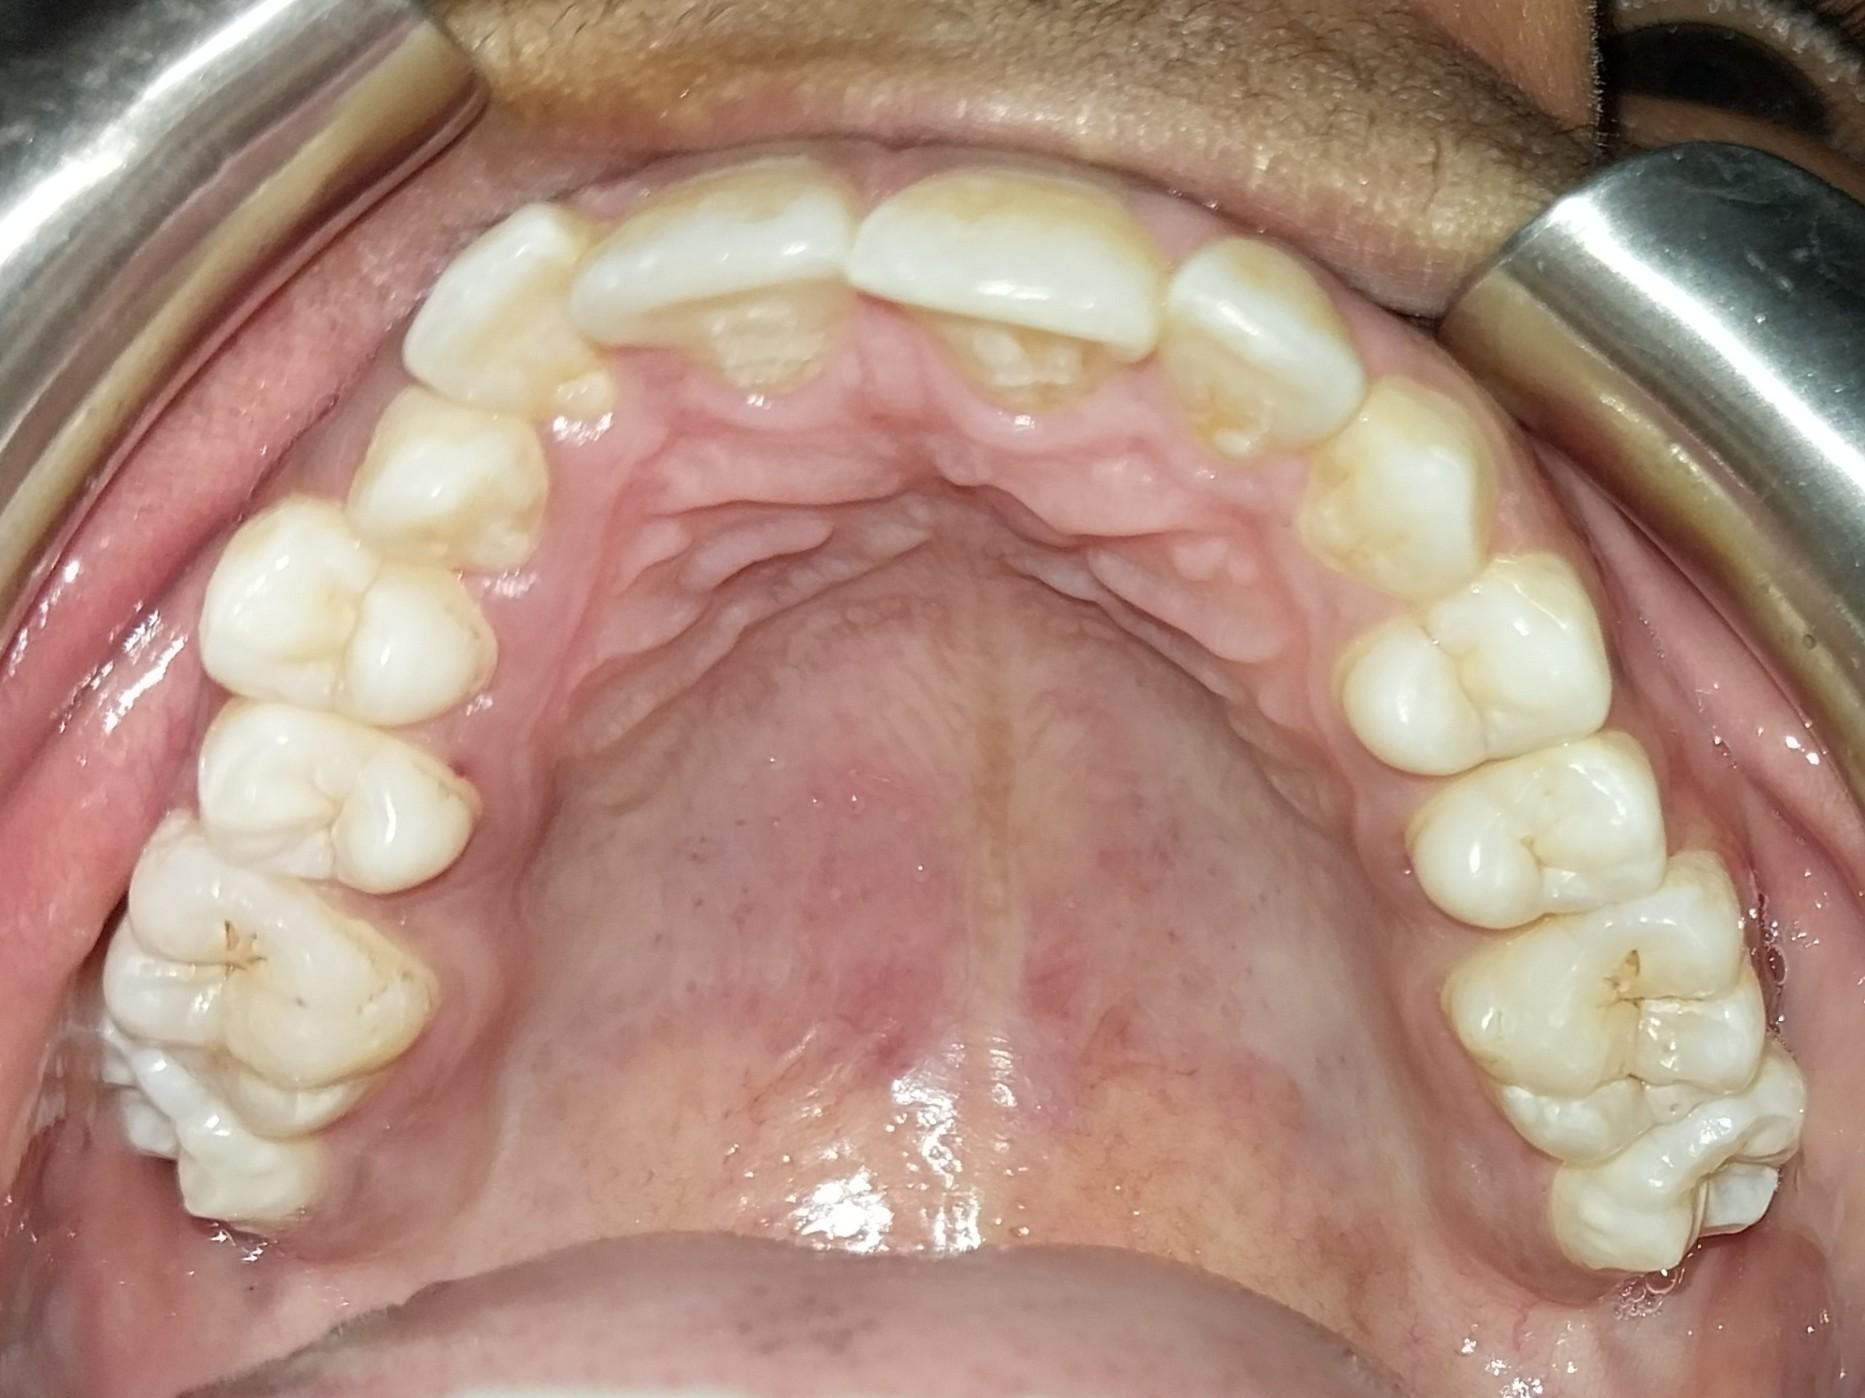D: (102, 835, 429, 1135), (1443, 894, 1772, 1160)
